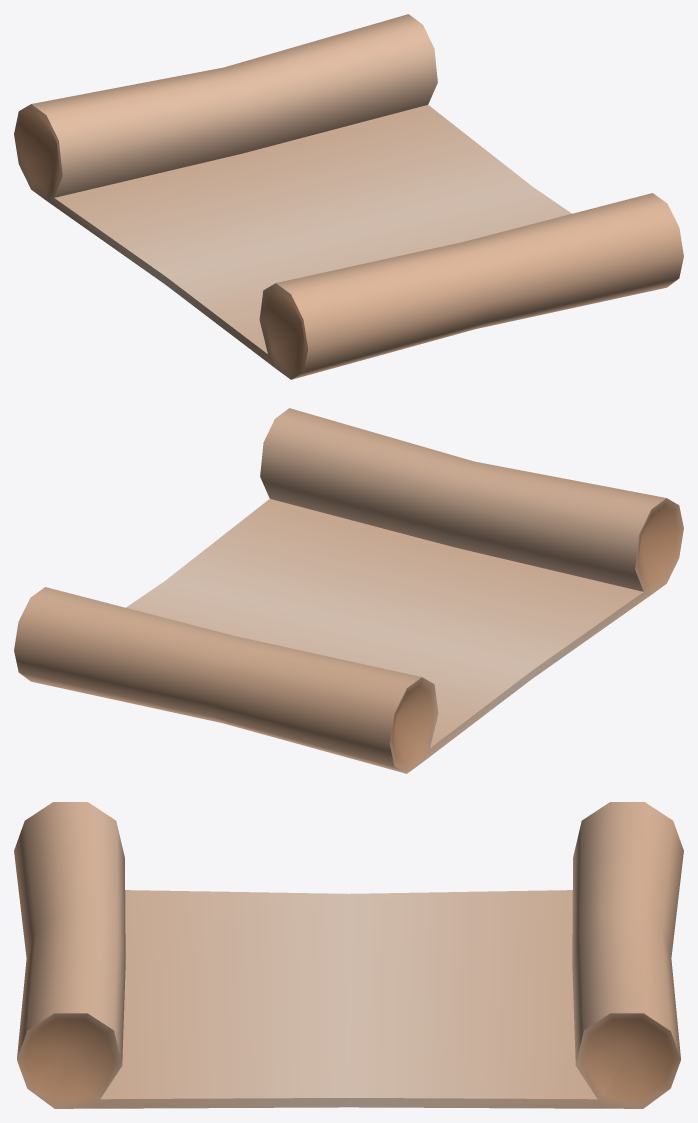
File: PaperScrollOpen1.fbx
3 views of the same model, one above another, from view 1: azimuth 30°, elevation 25°; view 2: azimuth 150°, elevation 25°; view 3: azimuth 270°, elevation 25° (orthographic). The views are drawn at different scales.
Parts seen in each view (by area): view 1: PaperScrollOpen1; view 2: PaperScrollOpen1; view 3: PaperScrollOpen1.
Part boxes in pixels (left/top/right/bottom): PaperScrollOpen1: left=14, top=14, right=683, bottom=379; PaperScrollOpen1: left=14, top=408, right=683, bottom=773; PaperScrollOpen1: left=14, top=802, right=683, bottom=1108.
Size of the model in its own units: 22.34 by 4.91 by 30.2.
